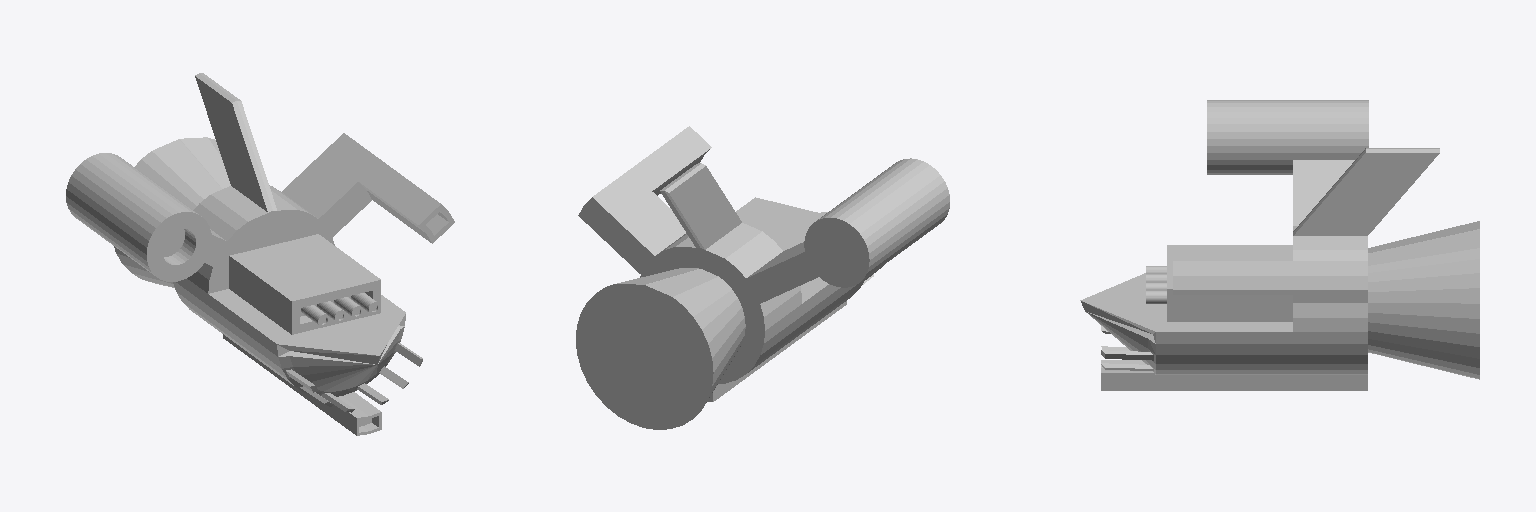
The model's file is Boss.obj.
The picture shows the model from 3 angles: view 1: azimuth 30°, elevation 25°; view 2: azimuth 150°, elevation 25°; view 3: azimuth 270°, elevation 25°; orthographic projection.
Visible parts, largest first — view 1: Cylinder; view 2: Cylinder; view 3: Cylinder.
Boxes of the visible parts, box(x1,y1,x2,y2) form: Cylinder: box(66, 73, 454, 435); Cylinder: box(576, 126, 949, 429); Cylinder: box(1080, 100, 1479, 390).
Size of the model in its own units: 7.31 by 5.66 by 8.67.